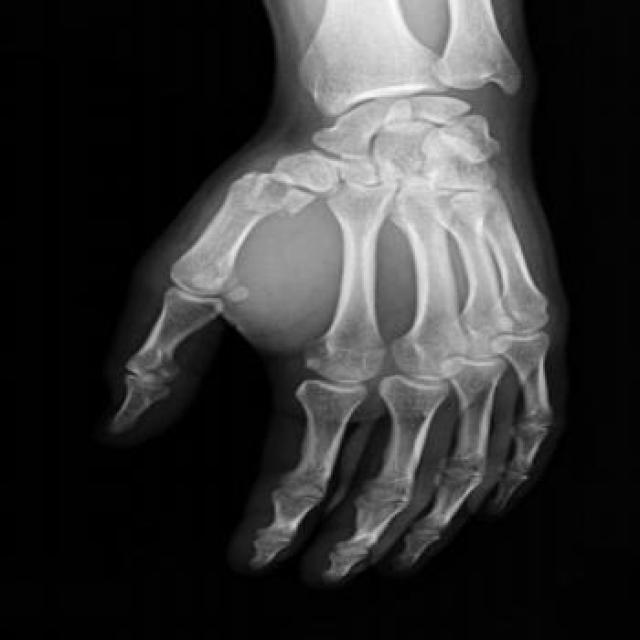fracture: (261, 174, 322, 226)
